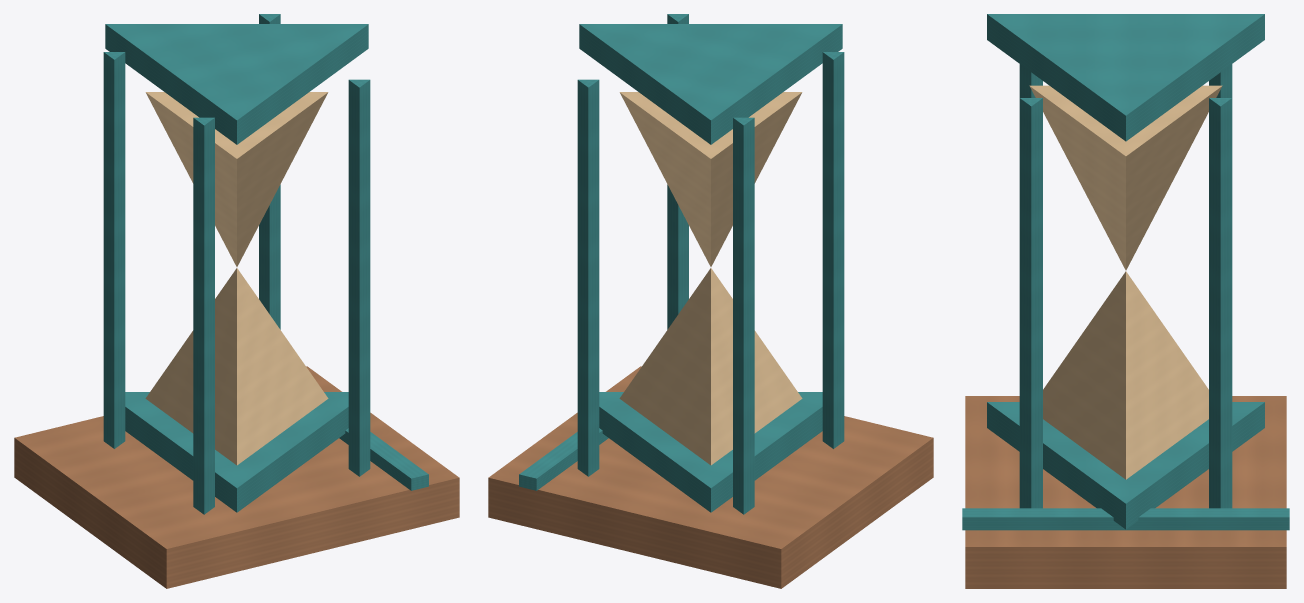
Rendered from atlas100-s091-a01.lod2.glb.
3 views of the same model, side by side, from view 1: azimuth 30°, elevation 25°; view 2: azimuth 150°, elevation 25°; view 3: azimuth 270°, elevation 25° (orthographic). The views are drawn at different scales.
Parts seen in each view (by area): view 1: atlas100-s091-a01:part-000, atlas100-s091-a01:part-004, atlas100-s091-a01:part-013, atlas100-s091-a01:part-014, atlas100-s091-a01:part-003, atlas100-s091-a01:part-005, atlas100-s091-a01:part-009, atlas100-s091-a01:part-007, atlas100-s091-a01:part-011, atlas100-s091-a01:part-002; view 2: atlas100-s091-a01:part-000, atlas100-s091-a01:part-004, atlas100-s091-a01:part-013, atlas100-s091-a01:part-014, atlas100-s091-a01:part-003, atlas100-s091-a01:part-011, atlas100-s091-a01:part-007, atlas100-s091-a01:part-009, atlas100-s091-a01:part-005, atlas100-s091-a01:part-002; view 3: atlas100-s091-a01:part-000, atlas100-s091-a01:part-004, atlas100-s091-a01:part-013, atlas100-s091-a01:part-014, atlas100-s091-a01:part-003, atlas100-s091-a01:part-005, atlas100-s091-a01:part-011, atlas100-s091-a01:part-002, atlas100-s091-a01:part-007, atlas100-s091-a01:part-009.
Boxes of the visible parts, x1,y1,x2,y2 form: atlas100-s091-a01:part-000: [14, 366, 459, 588]; atlas100-s091-a01:part-004: [105, 24, 368, 144]; atlas100-s091-a01:part-013: [145, 268, 328, 465]; atlas100-s091-a01:part-014: [145, 92, 328, 266]; atlas100-s091-a01:part-003: [125, 392, 348, 512]; atlas100-s091-a01:part-005: [348, 79, 370, 476]; atlas100-s091-a01:part-009: [103, 52, 125, 448]; atlas100-s091-a01:part-007: [193, 117, 214, 514]; atlas100-s091-a01:part-011: [259, 14, 280, 329]; atlas100-s091-a01:part-002: [339, 428, 428, 490]; atlas100-s091-a01:part-000: [488, 366, 933, 588]; atlas100-s091-a01:part-004: [579, 24, 842, 144]; atlas100-s091-a01:part-013: [619, 268, 802, 465]; atlas100-s091-a01:part-014: [619, 92, 802, 266]; atlas100-s091-a01:part-003: [599, 392, 822, 512]; atlas100-s091-a01:part-011: [577, 79, 599, 476]; atlas100-s091-a01:part-007: [822, 52, 844, 448]; atlas100-s091-a01:part-009: [733, 117, 754, 514]; atlas100-s091-a01:part-005: [667, 14, 688, 329]; atlas100-s091-a01:part-002: [519, 428, 608, 490]; atlas100-s091-a01:part-000: [965, 396, 1286, 588]; atlas100-s091-a01:part-004: [987, 14, 1264, 141]; atlas100-s091-a01:part-013: [1043, 271, 1208, 479]; atlas100-s091-a01:part-014: [1029, 85, 1222, 270]; atlas100-s091-a01:part-003: [987, 402, 1264, 529]; atlas100-s091-a01:part-005: [1019, 98, 1042, 508]; atlas100-s091-a01:part-011: [1209, 98, 1232, 508]; atlas100-s091-a01:part-002: [962, 508, 1289, 530]; atlas100-s091-a01:part-007: [1019, 64, 1042, 97]; atlas100-s091-a01:part-009: [1209, 64, 1232, 97].
Bounding box in the file's own units: 2 × 2.88 × 1.84.
Materials: 3 (3 with a texture image).
